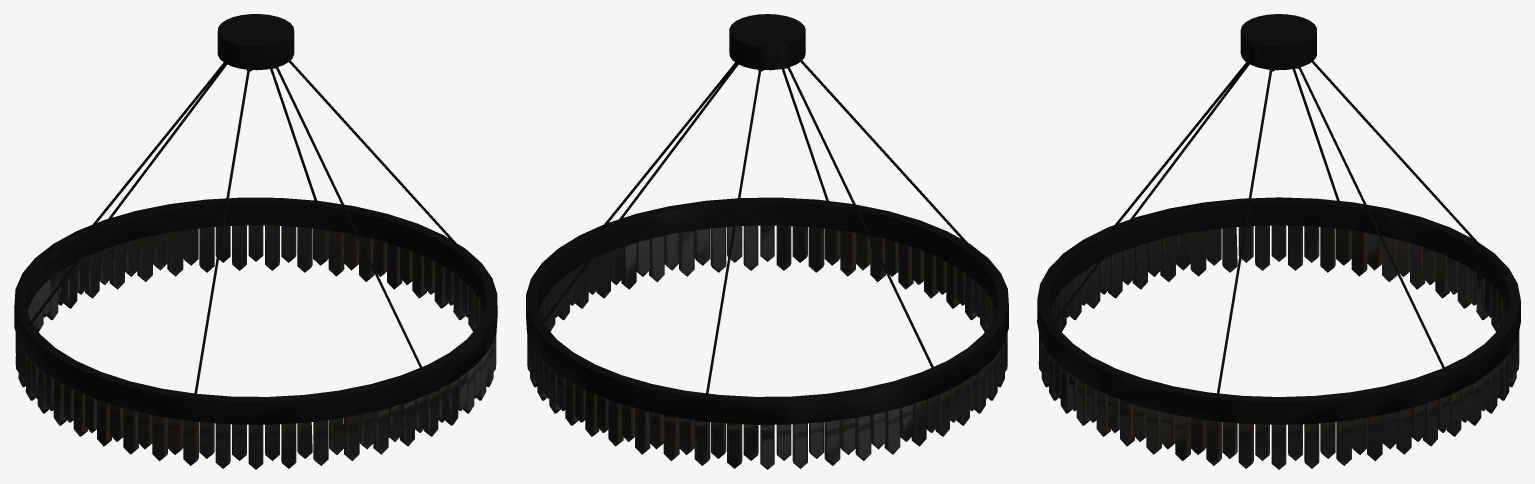
File: lighting_pendant_light_b1d9b8b3-333b-5856-88b7-a6c59cc63b4a.glb
The picture shows the model from 3 angles, left to right: view 1: azimuth 30°, elevation 25°; view 2: azimuth 150°, elevation 25°; view 3: azimuth 270°, elevation 25°; orthographic projection.
Visible parts, largest first — view 1: raw_model.obj; view 2: raw_model.obj; view 3: raw_model.obj.
Part boxes in pixels (x1,y1,x2,y2): raw_model.obj: [14, 14, 497, 469]; raw_model.obj: [526, 14, 1008, 469]; raw_model.obj: [1037, 14, 1520, 469].
Bounding box in the file's own units: 1.11 × 0.8585 × 1.11.
Materials: 1 (1 with a texture image).
